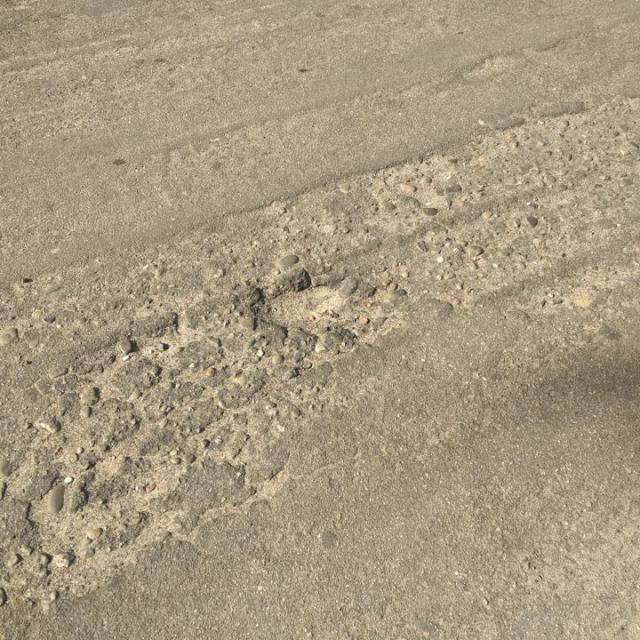pothole: (251, 276, 353, 326)
